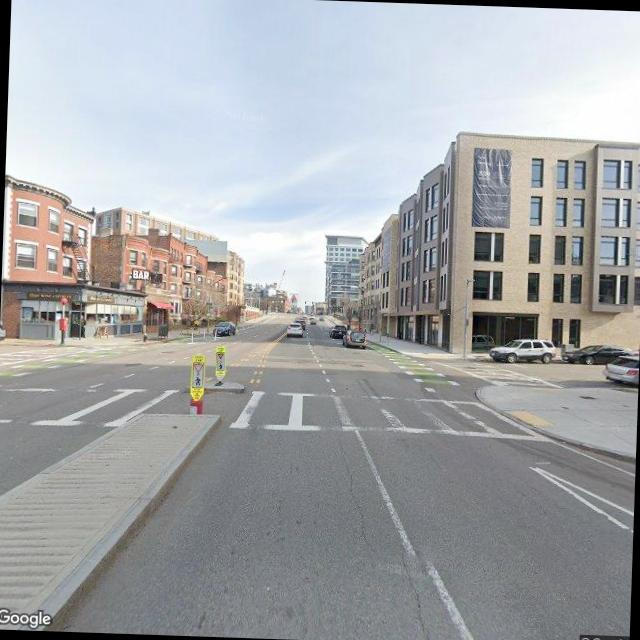pothole: (393, 549, 436, 640), (333, 445, 372, 542)
